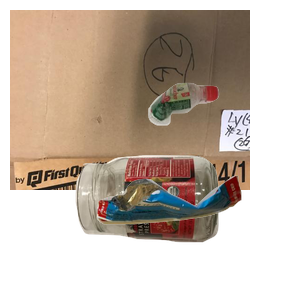cardboard: (10, 10, 250, 190)
glass: (73, 153, 284, 300)
plastic: (146, 80, 300, 198)
trash: (94, 173, 300, 300)
